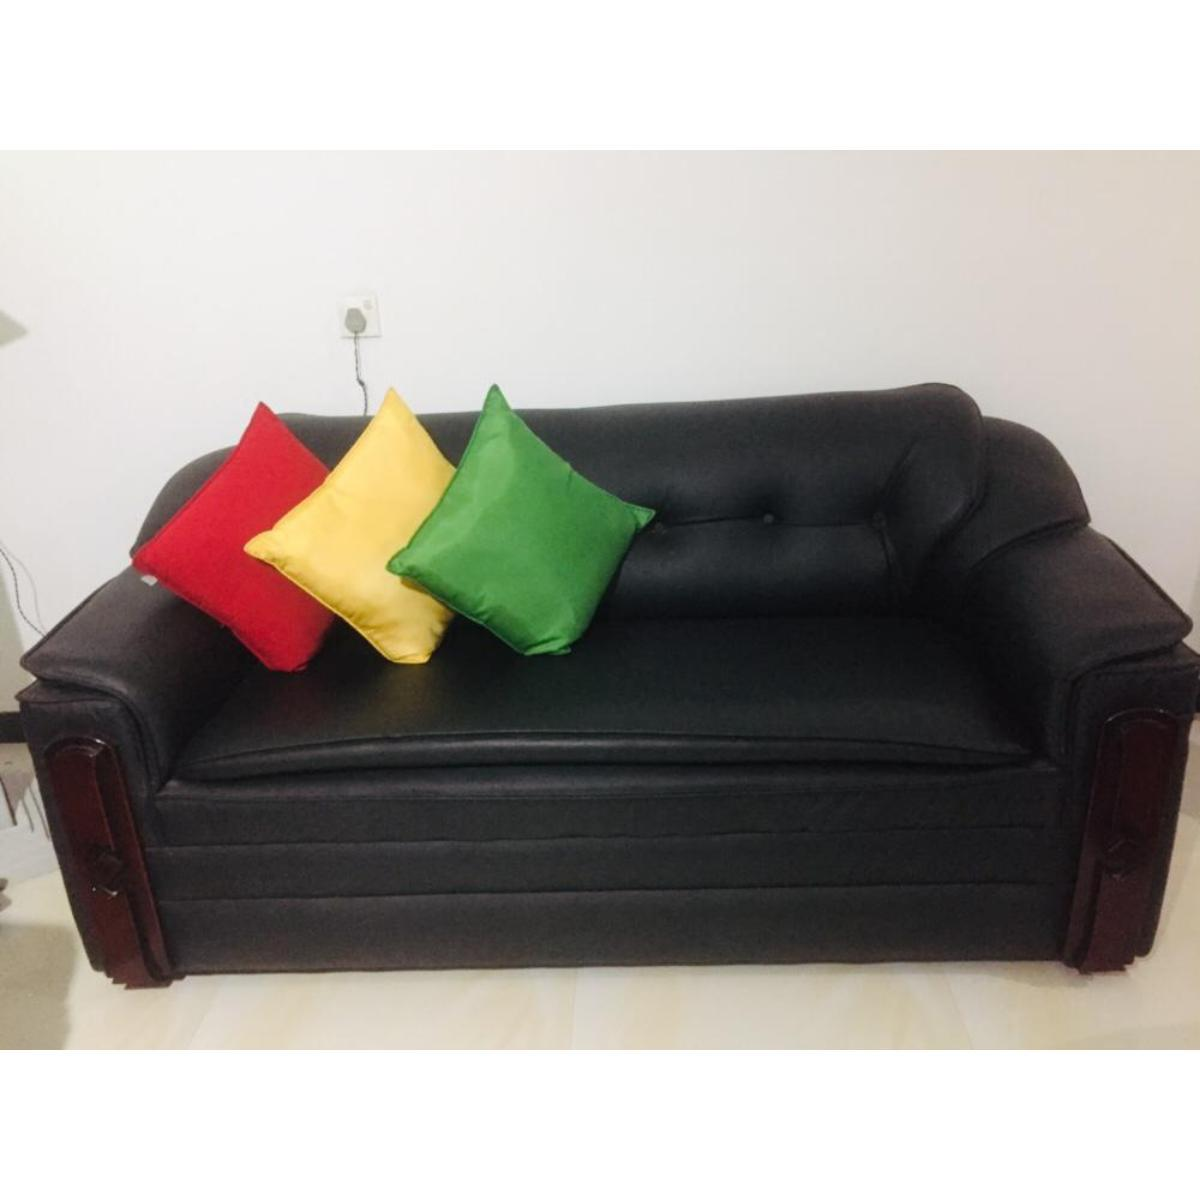Sofa: (14, 390, 1183, 986)
